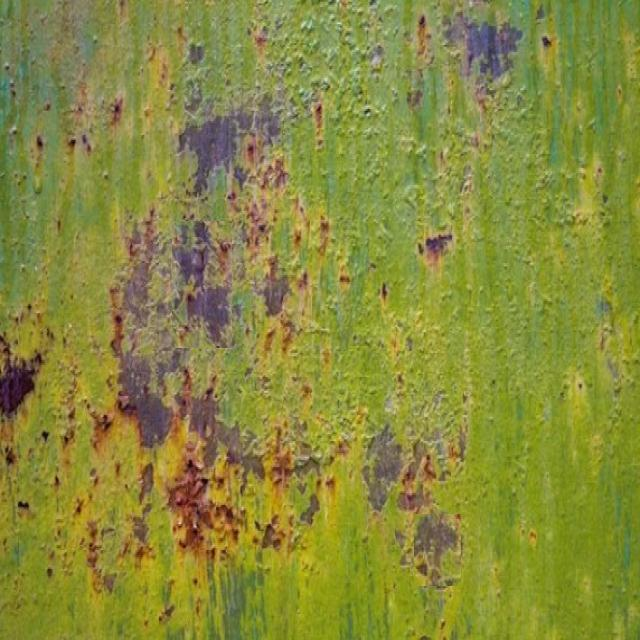Corrosion: (179, 111, 279, 192), (189, 390, 263, 478), (447, 13, 523, 78), (121, 369, 171, 446), (364, 427, 404, 512), (414, 514, 459, 580), (128, 218, 171, 284), (244, 136, 289, 192), (173, 222, 211, 288), (169, 494, 213, 548), (188, 288, 230, 344), (168, 458, 208, 516), (246, 189, 270, 258), (126, 260, 151, 325), (399, 451, 425, 512), (0, 365, 36, 404), (420, 233, 454, 266), (123, 344, 151, 384), (90, 408, 115, 452), (263, 277, 290, 316), (175, 368, 192, 420), (132, 507, 150, 547), (85, 521, 98, 573), (311, 97, 325, 144), (184, 80, 203, 114), (110, 313, 123, 360), (301, 495, 320, 526), (110, 95, 124, 126), (139, 464, 154, 492), (187, 42, 205, 64), (30, 132, 46, 154), (101, 576, 116, 594), (80, 133, 92, 154), (17, 502, 29, 516), (66, 136, 76, 150), (52, 472, 60, 488), (45, 568, 54, 580), (41, 431, 49, 442)
